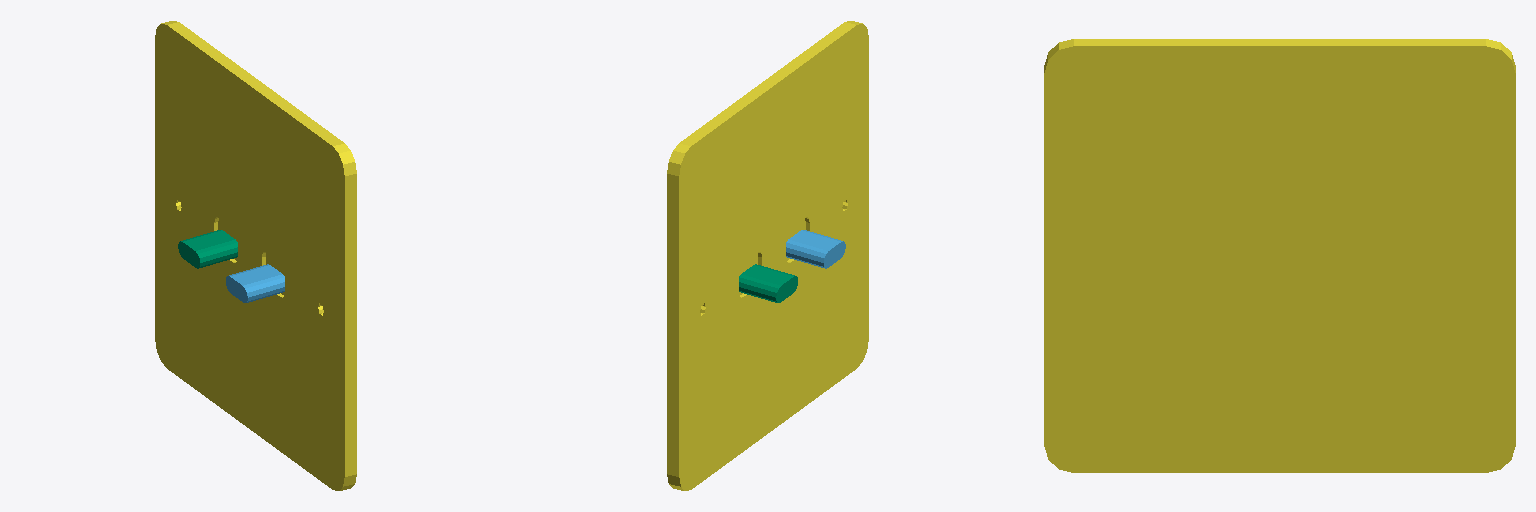
The robot description file, URDF, robot "partnet_24055dbb-2626-485d-8517-fac4a83bde32":
<?xml version="1.0" ?>
<robot name="partnet_24055dbb-2626-485d-8517-fac4a83bde32">
	<link name="base"/>
	<link name="link_0">
		<visual name="switch-1">
			<origin xyz="0 0 0"/>
			<geometry>
				<mesh filename="textured_objs/original-4.obj"/>
			</geometry>
		</visual>
		<collision>
			<origin xyz="0 0 0"/>
			<geometry>
				<mesh filename="textured_objs/original-4.obj"/>
			</geometry>
		</collision>
	</link>
	<joint name="joint_0" type="prismatic">
		<origin xyz="0 0 0"/>
		<axis xyz="0 1 0"/>
		<child link="link_0"/>
		<parent link="link_2"/>
		<limit lower="0" upper="0.04800000000000004"/>
	</joint>
	<link name="link_1">
		<visual name="switch-2">
			<origin xyz="0 0 0"/>
			<geometry>
				<mesh filename="textured_objs/original-12.obj"/>
			</geometry>
		</visual>
		<collision>
			<origin xyz="0 0 0"/>
			<geometry>
				<mesh filename="textured_objs/original-12.obj"/>
			</geometry>
		</collision>
	</link>
	<joint name="joint_1" type="prismatic">
		<origin xyz="0 0 0"/>
		<axis xyz="0 1 0"/>
		<child link="link_1"/>
		<parent link="link_2"/>
		<limit lower="0" upper="0.04800000000000004"/>
	</joint>
	<link name="link_2">
		<visual name="base_body-3">
			<origin xyz="0 0 0"/>
			<geometry>
				<mesh filename="textured_objs/original-3.obj"/>
			</geometry>
		</visual>
		<visual name="base_body-3">
			<origin xyz="0 0 0"/>
			<geometry>
				<mesh filename="textured_objs/original-2.obj"/>
			</geometry>
		</visual>
		<visual name="base_body-3">
			<origin xyz="0 0 0"/>
			<geometry>
				<mesh filename="textured_objs/original-8.obj"/>
			</geometry>
		</visual>
		<visual name="base_body-3">
			<origin xyz="0 0 0"/>
			<geometry>
				<mesh filename="textured_objs/original-13.obj"/>
			</geometry>
		</visual>
		<visual name="base_body-3">
			<origin xyz="0 0 0"/>
			<geometry>
				<mesh filename="textured_objs/original-9.obj"/>
			</geometry>
		</visual>
		<visual name="base_body-3">
			<origin xyz="0 0 0"/>
			<geometry>
				<mesh filename="textured_objs/original-5.obj"/>
			</geometry>
		</visual>
		<visual name="base_body-3">
			<origin xyz="0 0 0"/>
			<geometry>
				<mesh filename="textured_objs/original-6.obj"/>
			</geometry>
		</visual>
		<visual name="base_body-3">
			<origin xyz="0 0 0"/>
			<geometry>
				<mesh filename="textured_objs/original-11.obj"/>
			</geometry>
		</visual>
		<visual name="base_body-3">
			<origin xyz="0 0 0"/>
			<geometry>
				<mesh filename="textured_objs/original-7.obj"/>
			</geometry>
		</visual>
		<visual name="base_body-3">
			<origin xyz="0 0 0"/>
			<geometry>
				<mesh filename="textured_objs/original-1.obj"/>
			</geometry>
		</visual>
		<visual name="base_body-3">
			<origin xyz="0 0 0"/>
			<geometry>
				<mesh filename="textured_objs/original-10.obj"/>
			</geometry>
		</visual>
		<collision>
			<origin xyz="0 0 0"/>
			<geometry>
				<mesh filename="textured_objs/original-3.obj"/>
			</geometry>
		</collision>
		<collision>
			<origin xyz="0 0 0"/>
			<geometry>
				<mesh filename="textured_objs/original-2.obj"/>
			</geometry>
		</collision>
		<collision>
			<origin xyz="0 0 0"/>
			<geometry>
				<mesh filename="textured_objs/original-8.obj"/>
			</geometry>
		</collision>
		<collision>
			<origin xyz="0 0 0"/>
			<geometry>
				<mesh filename="textured_objs/original-13.obj"/>
			</geometry>
		</collision>
		<collision>
			<origin xyz="0 0 0"/>
			<geometry>
				<mesh filename="textured_objs/original-9.obj"/>
			</geometry>
		</collision>
		<collision>
			<origin xyz="0 0 0"/>
			<geometry>
				<mesh filename="textured_objs/original-5.obj"/>
			</geometry>
		</collision>
		<collision>
			<origin xyz="0 0 0"/>
			<geometry>
				<mesh filename="textured_objs/original-6.obj"/>
			</geometry>
		</collision>
		<collision>
			<origin xyz="0 0 0"/>
			<geometry>
				<mesh filename="textured_objs/original-11.obj"/>
			</geometry>
		</collision>
		<collision>
			<origin xyz="0 0 0"/>
			<geometry>
				<mesh filename="textured_objs/original-7.obj"/>
			</geometry>
		</collision>
		<collision>
			<origin xyz="0 0 0"/>
			<geometry>
				<mesh filename="textured_objs/original-1.obj"/>
			</geometry>
		</collision>
		<collision>
			<origin xyz="0 0 0"/>
			<geometry>
				<mesh filename="textured_objs/original-10.obj"/>
			</geometry>
		</collision>
	</link>
	<joint name="joint_2" type="fixed">
		<origin rpy="1.570796326794897 0 -1.570796326794897" xyz="0 0 0"/>
		<child link="link_2"/>
		<parent link="base"/>
	</joint>
</robot>

--- What the picture shows (computed from the rendered views, not written in the file) ---
The picture shows the robot from 3 angles, left to right: view 1: azimuth 30°, elevation 25°; view 2: azimuth 150°, elevation 25°; view 3: azimuth 270°, elevation 25°; orthographic projection.
Model partnet_24055dbb-2626-485d-8517-fac4a83bde32 with 4 links and 3 joints (2 prismatic, 1 fixed), rooted at base, posed all joints at 0.
Links seen in each view (by area): view 1: link_2, link_1, link_0; view 2: link_2, link_0, link_1; view 3: link_2.
Boxes of the visible links, x1,y1,x2,y2 form: link_2: (155, 21, 356, 490); link_1: (178, 230, 237, 268); link_0: (226, 264, 284, 302); link_2: (667, 21, 868, 490); link_0: (786, 230, 845, 268); link_1: (739, 264, 797, 302); link_2: (1044, 39, 1515, 472).
Size in the robot's own frame: 0.2198 by 1.46 by 1.46 metres.
13 mesh visuals loaded from 13 distinct referenced files (13 OBJ).